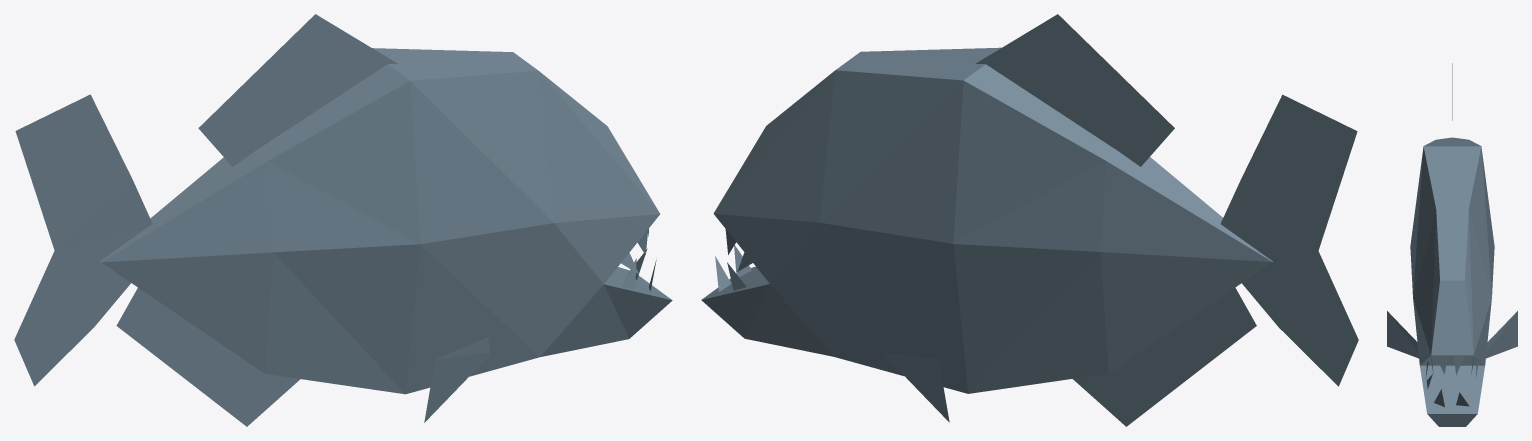
The model's file is piranha.glb.
3 views of the same model, side by side, from view 1: azimuth 30°, elevation 25°; view 2: azimuth 150°, elevation 25°; view 3: azimuth 270°, elevation 25° (orthographic). The views are drawn at different scales.
Visible parts, largest first — view 1: piranha_mesh.obj; view 2: piranha_mesh.obj; view 3: piranha_mesh.obj.
Boxes of the visible parts, x1,y1,x2,y2 form: piranha_mesh.obj: (14, 14, 672, 426); piranha_mesh.obj: (701, 14, 1358, 426); piranha_mesh.obj: (1387, 63, 1517, 426).
Bounding box in the file's own units: 2 × 1.19 × 0.5511.
